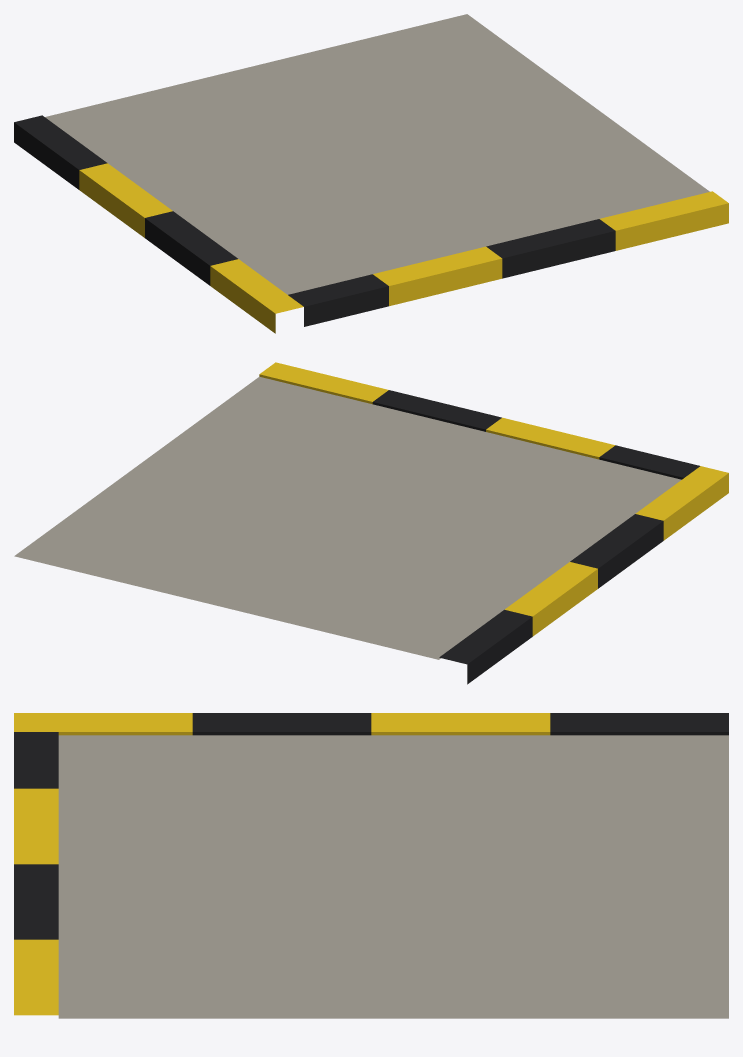
File: road_sidewalk_corner.glb
3 renders of one model, top to bottom at view 1: azimuth 30°, elevation 25°; view 2: azimuth 150°, elevation 25°; view 3: azimuth 270°, elevation 25°, orthographic. The views are drawn at different scales.
Visible parts, largest first — view 1: road_sidewalk_corner; view 2: road_sidewalk_corner; view 3: road_sidewalk_corner.
Part boxes in pixels (bbox=[...]): road_sidewalk_corner: bbox=[14, 14, 728, 333]; road_sidewalk_corner: bbox=[14, 362, 728, 684]; road_sidewalk_corner: bbox=[14, 713, 728, 1018].
Size of what is drawn, in the model's own units: 4 by 0.17 by 4.
